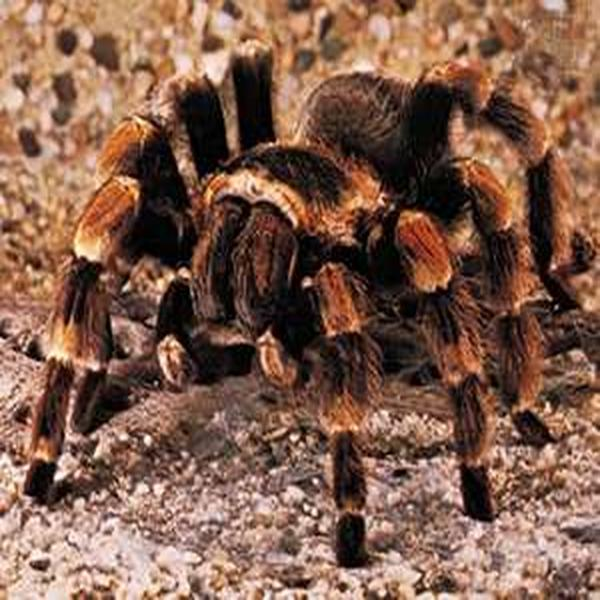Tarantula Spider: (47, 42, 570, 536)
